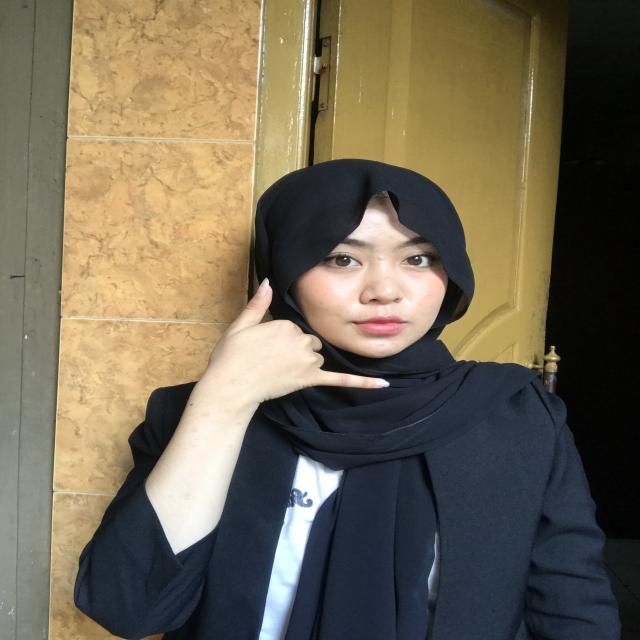telpon: (196, 274, 392, 422)
